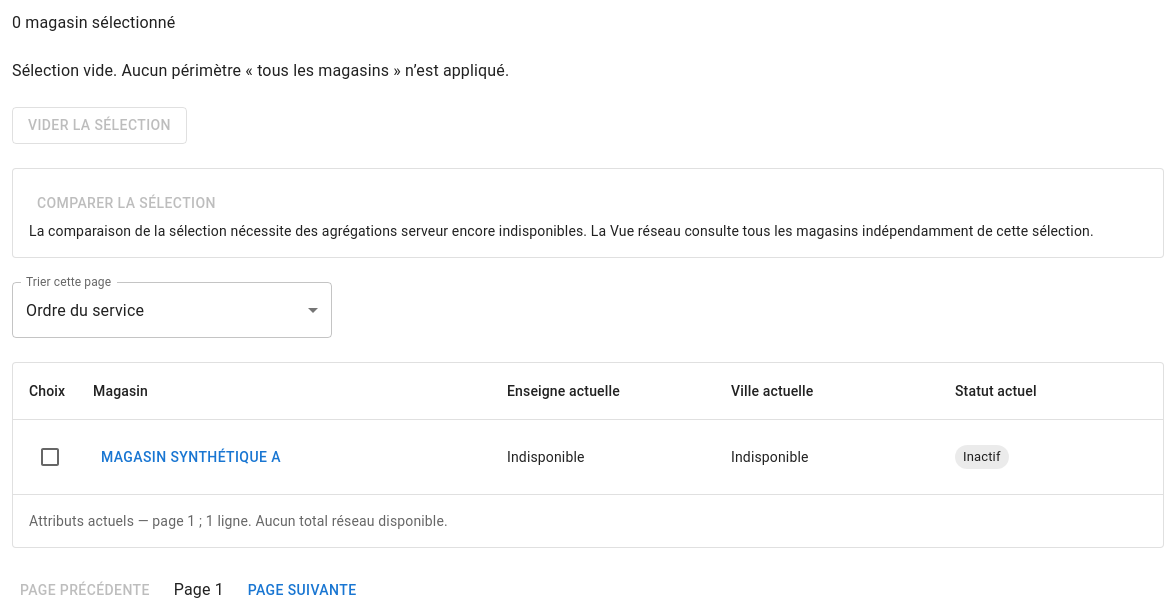
store navigation › allows returning during a slow page read and ignores its late result
The width and height of the screenshot is (1164, 609).
(page scrolled)
Expected: the button "Magasin synthétique A" is shown, 93,439 -> 289,475
Click the button "Page suivante" at (302, 590), box 240,572 -> 364,608
(page scrolled)
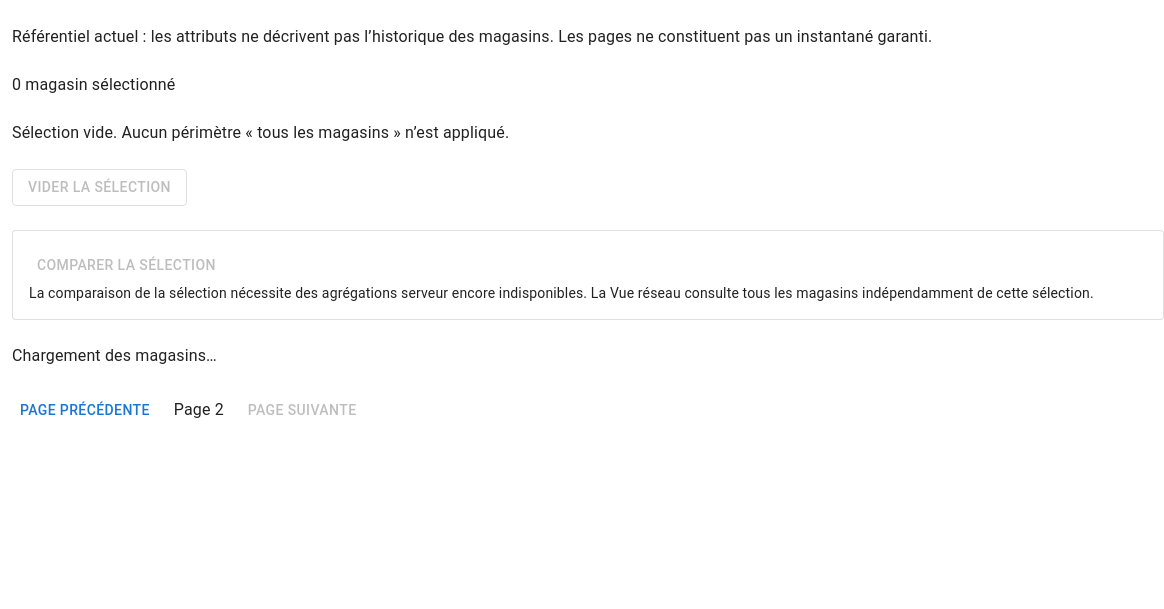
Expected: the button "Magasin synthétique A" is gone
Click the button "Page précédente" at (85, 410), box 12,392 -> 158,428
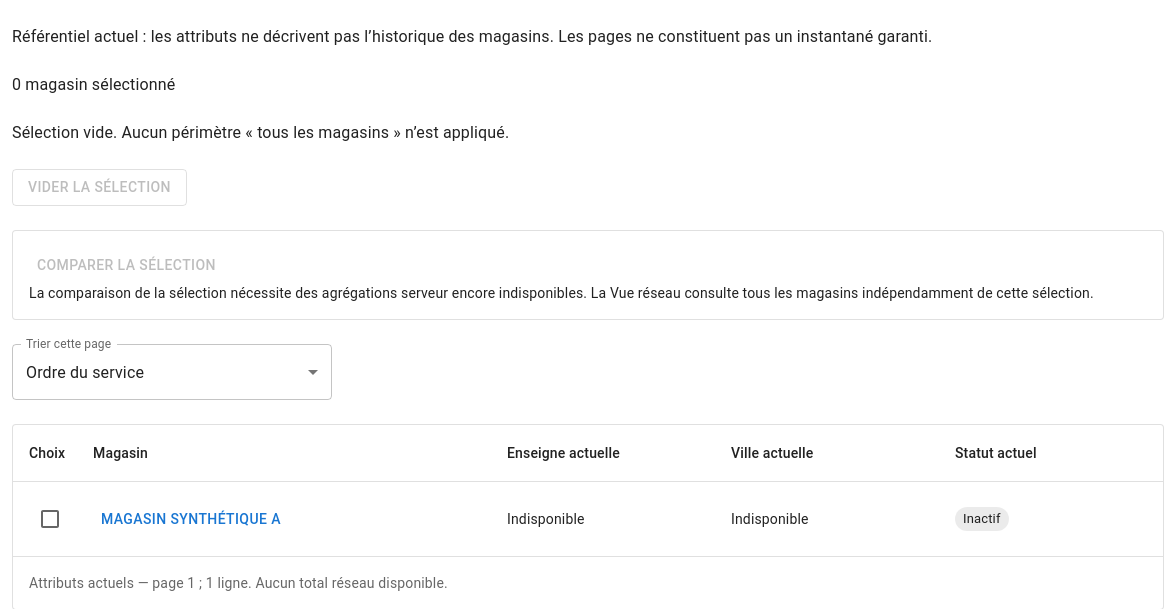
Expected: the button "Magasin synthétique A" is shown, 93,501 -> 289,537
